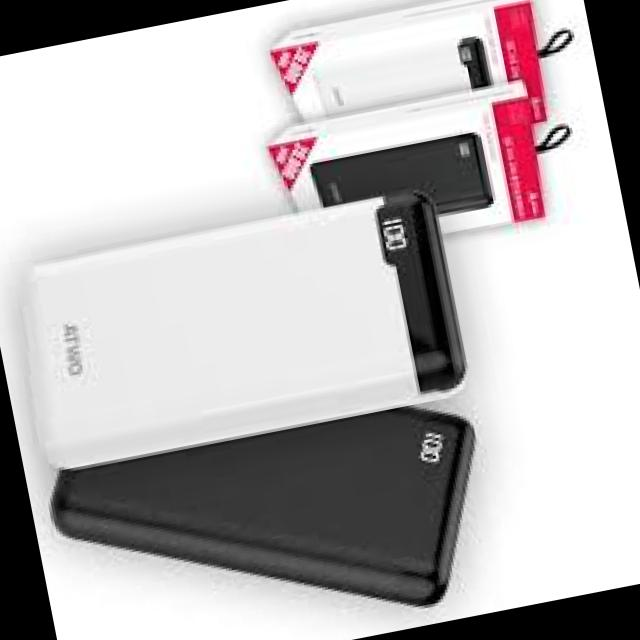portable-charger: (0, 189, 473, 481), (31, 397, 505, 640), (303, 129, 495, 243), (310, 36, 492, 126)
